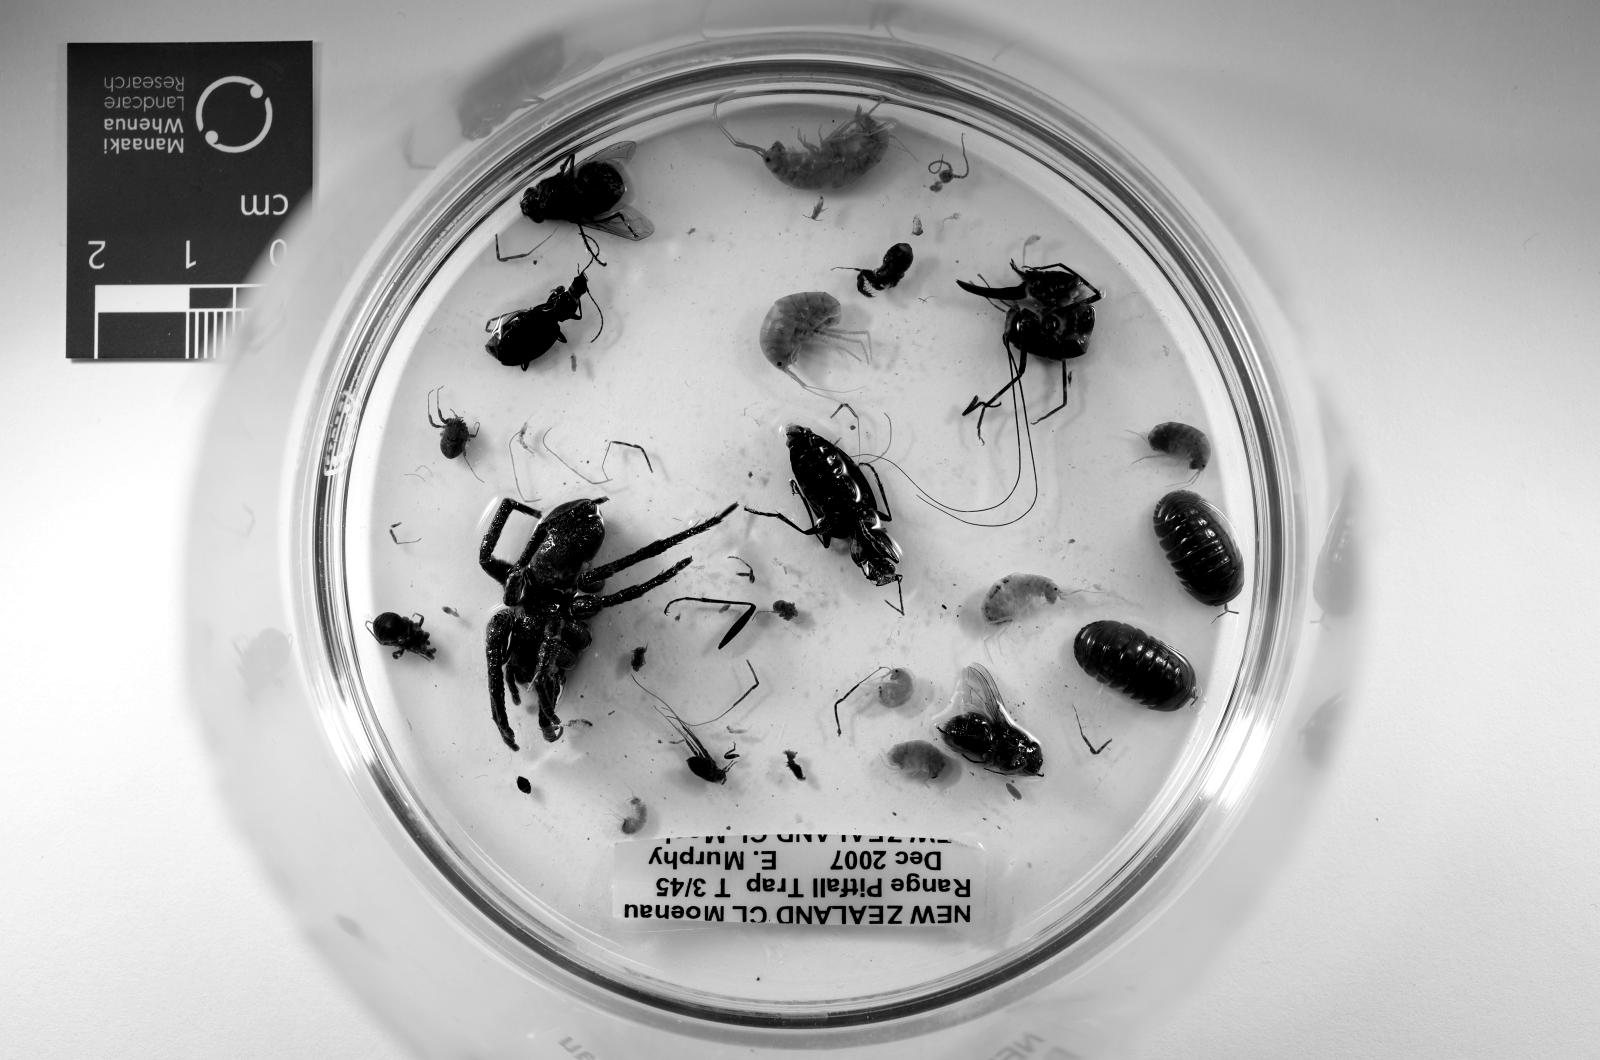amphipoda: (719, 109, 906, 189), (759, 292, 872, 382), (982, 575, 1065, 631), (1141, 422, 1212, 476), (887, 742, 947, 780), (875, 667, 915, 707), (618, 799, 647, 835)
araneae: (478, 497, 738, 751)
carabidae: (788, 426, 903, 587), (485, 273, 588, 369)
coleoptera: (516, 776, 531, 795)
collembola: (809, 199, 825, 220), (519, 422, 531, 451), (569, 720, 594, 726)
diptera: (522, 143, 653, 239), (940, 665, 1044, 776)
isopoda: (1075, 621, 1197, 711), (1153, 491, 1244, 606)
opiliones: (656, 699, 738, 786), (428, 388, 478, 459), (365, 612, 434, 658), (856, 243, 913, 298), (772, 600, 797, 621)
orthoptera: (957, 260, 1103, 438)
